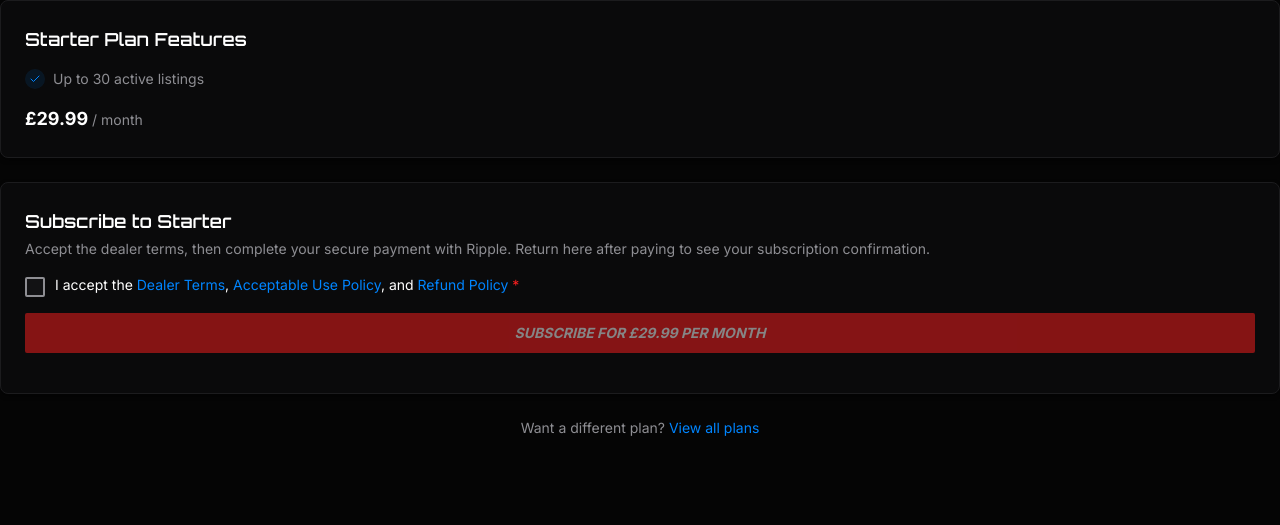
SubscribeForm demo checkout flow › blocks checkout when terms acceptance cannot be recorded
Click the checkbox named "I accept the Dealer Terms".
click(35, 287)  # box x1=25 y1=277 x2=45 y2=297
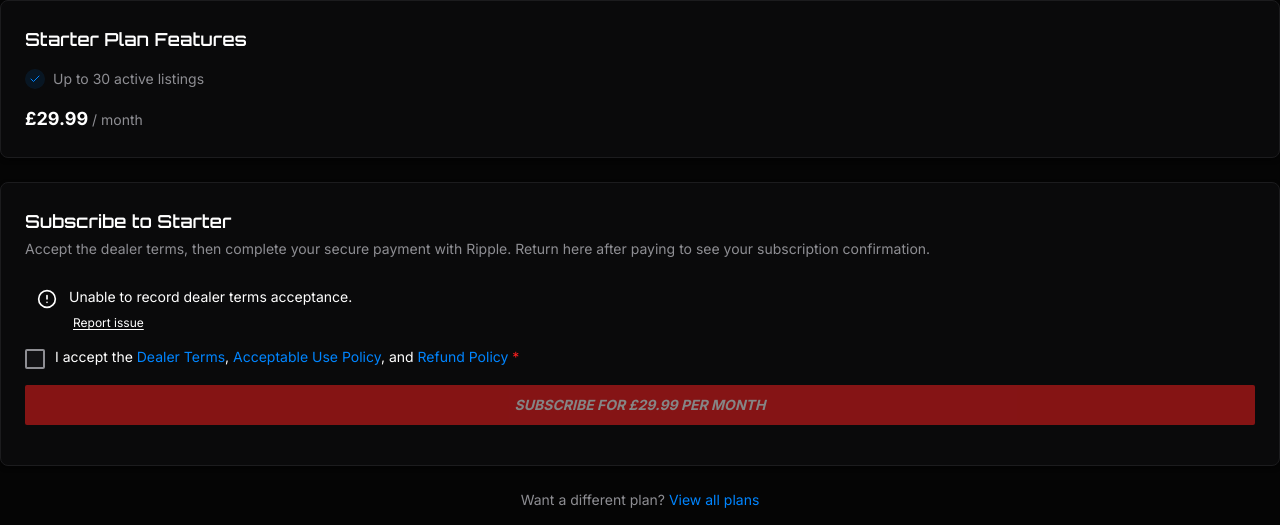
Expected: the button "Subscribe for £29.99 per month" is disabled, x1=25 y1=385 x2=1255 y2=425
Expected: the text "Unable to record dealer terms acceptance." is shown, x1=69 y1=288 x2=352 y2=305
